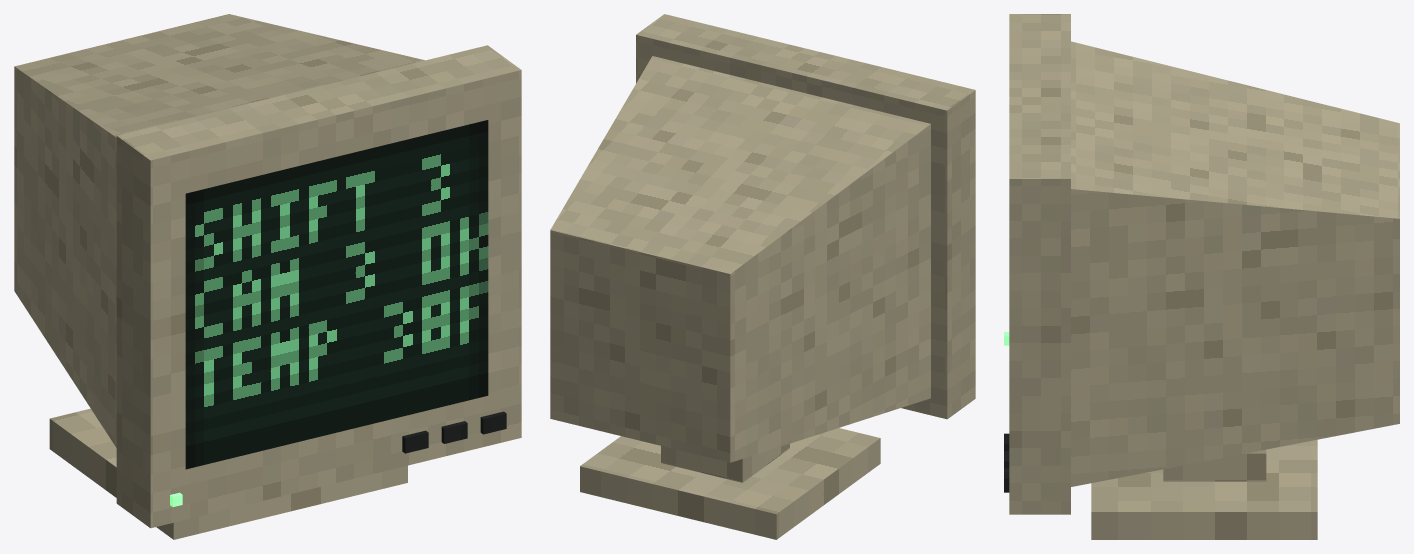
Rendered from crt_monitor.glb.
The picture shows the model from 3 angles, left to right: view 1: azimuth 30°, elevation 25°; view 2: azimuth 150°, elevation 25°; view 3: azimuth 270°, elevation 25°; orthographic projection. The views are drawn at different scales.
Visible parts, largest first — view 1: CRTMonitor; view 2: CRTMonitor; view 3: CRTMonitor.
Boxes of the visible parts, x1=… form: CRTMonitor: x1=14, y1=14, x2=521, y2=539; CRTMonitor: x1=550, y1=14, x2=975, y2=539; CRTMonitor: x1=1004, y1=14, x2=1399, y2=539.
Size of the model in its own units: 0.38 by 0.42 by 0.385.
Materials: 4 (3 with a texture image).
